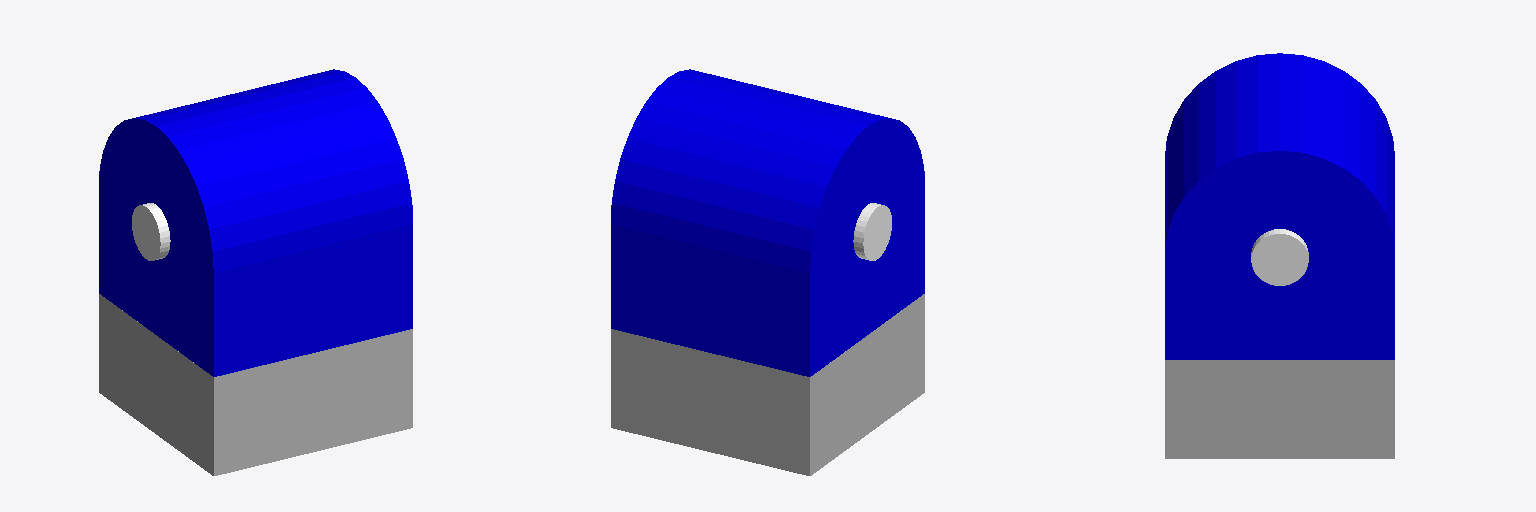
3 views of the same model, side by side, from view 1: azimuth 30°, elevation 25°; view 2: azimuth 150°, elevation 25°; view 3: azimuth 270°, elevation 25° (orthographic).
Visible parts, largest first — view 1: body_r_prox_pinvpin_collision_Cube.682; view 2: body_r_prox_pinvpin_collision_Cube.682; view 3: body_r_prox_pinvpin_collision_Cube.682.
Boxes of the visible parts, box(x1,y1,x2,y2) form: body_r_prox_pinvpin_collision_Cube.682: box(99, 69, 412, 475); body_r_prox_pinvpin_collision_Cube.682: box(611, 69, 924, 475); body_r_prox_pinvpin_collision_Cube.682: box(1165, 53, 1394, 458).
Bounding box in the file's own units: 0.022 × 0.0295 × 0.02.
2 materials, 1 textured.